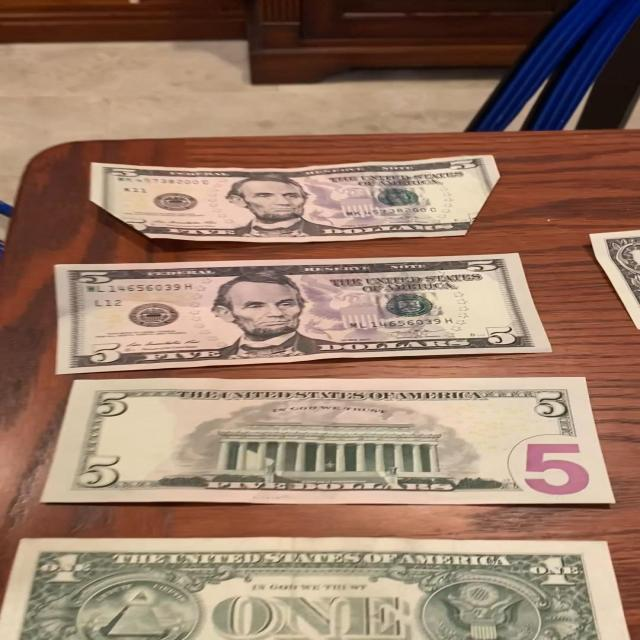1-Back: (0, 537, 638, 640)
5-Back: (35, 378, 618, 508)
5-Front: (44, 252, 558, 376), (86, 152, 504, 243)
